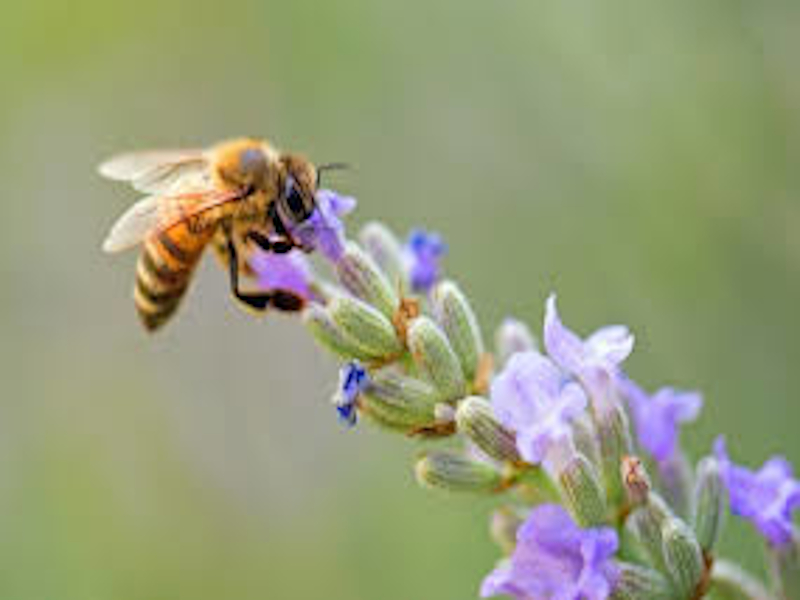abeja: (75, 124, 359, 350)
